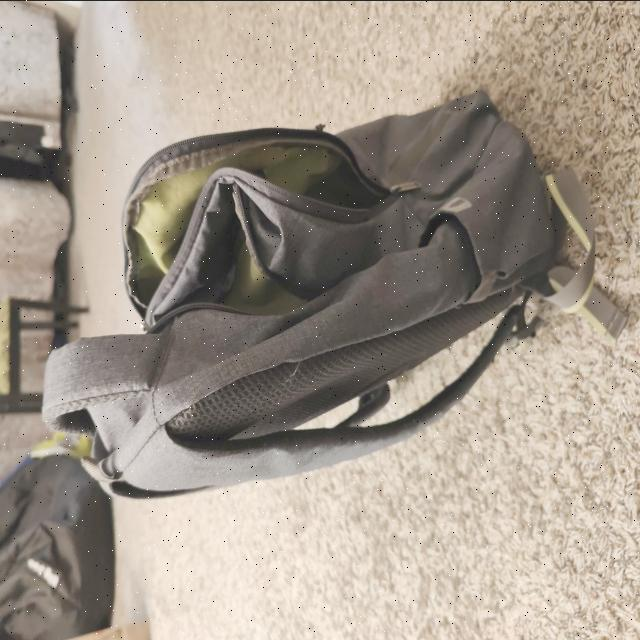bag: (43, 58, 536, 494)
